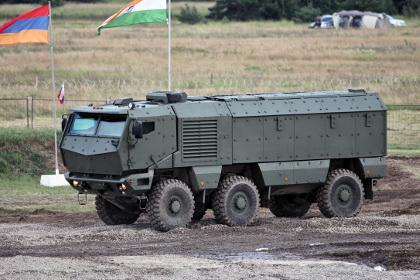truck: (58, 63, 397, 235)
